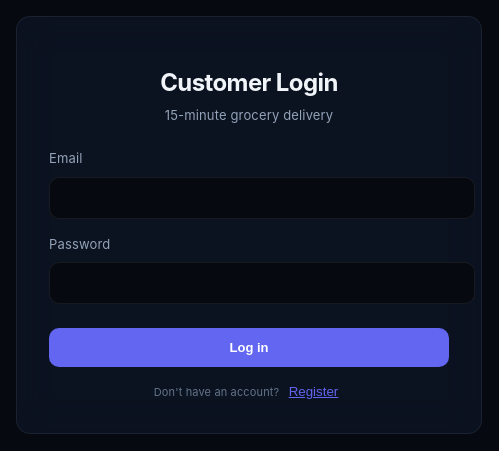
Test case: AuthPortal Component › Customer Role Specific › toggles between login and register modes
This screenshot has width=499, height=451.
Click the button "Register".
click(313, 392)  # box [283,383,344,400]
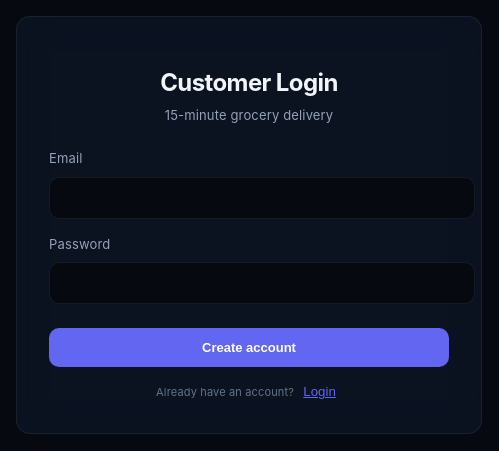
Check: the text "Already have an account?" is shown, box [156,385,294,399]
